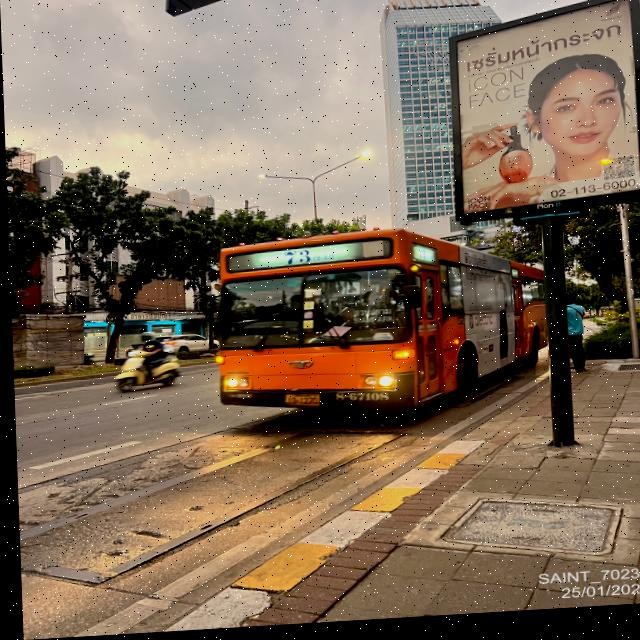BMTA-bus: (208, 227, 547, 433)
Bus-Line-Number: (276, 248, 336, 271)
Destination-Sign-Normal: (340, 309, 396, 332)
